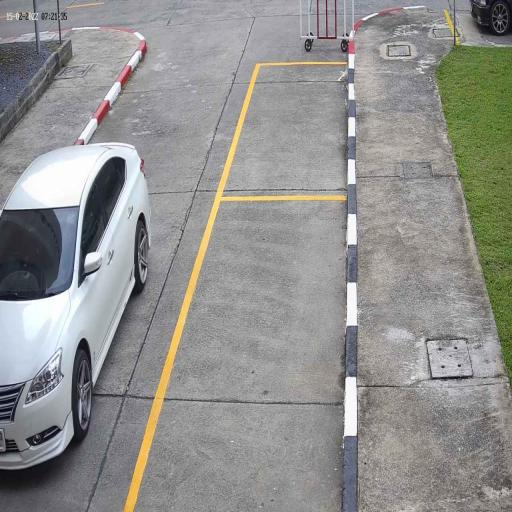car: (1, 141, 151, 473)
